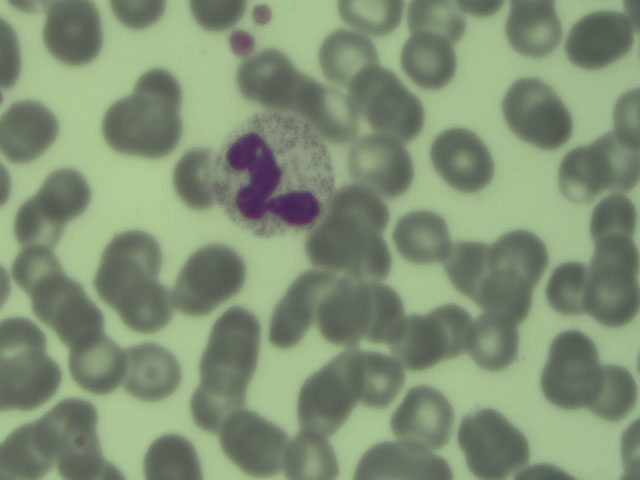Platelets: (223, 29, 261, 60), (250, 2, 276, 27)
RBC: (508, 73, 565, 140), (564, 14, 636, 64), (283, 427, 345, 480), (425, 302, 480, 360), (470, 310, 519, 373), (145, 433, 207, 480), (135, 69, 186, 124), (9, 243, 64, 293), (233, 420, 288, 469), (356, 130, 408, 181), (364, 76, 416, 127), (323, 33, 375, 84), (298, 86, 350, 137), (237, 51, 289, 102), (60, 429, 112, 480), (43, 397, 95, 448), (186, 383, 238, 434), (211, 303, 263, 354), (200, 340, 252, 391), (187, 244, 239, 295), (118, 282, 170, 333), (93, 253, 145, 304), (106, 225, 158, 276), (171, 151, 223, 202), (127, 345, 179, 396), (68, 338, 120, 389), (51, 300, 103, 351), (30, 273, 82, 324), (10, 201, 62, 252), (38, 167, 90, 218), (104, 101, 156, 152), (46, 12, 98, 63), (544, 348, 596, 399), (436, 237, 488, 288), (493, 231, 545, 282), (547, 260, 599, 311), (588, 274, 640, 325), (588, 235, 640, 286), (588, 192, 640, 243), (553, 144, 605, 195), (588, 133, 640, 184), (404, 33, 456, 84), (347, 351, 399, 402), (296, 369, 348, 420), (437, 135, 489, 186), (395, 210, 447, 261), (336, 282, 388, 333), (280, 279, 332, 330), (309, 226, 361, 277), (588, 368, 640, 419), (464, 420, 516, 471), (400, 389, 452, 440), (391, 310, 443, 361), (362, 439, 426, 480), (1, 425, 52, 476), (1, 360, 52, 411), (1, 107, 52, 158), (506, 1, 558, 50), (483, 275, 532, 326), (334, 1, 405, 35), (334, 186, 384, 233), (410, 1, 464, 42), (1, 315, 44, 364), (1, 22, 30, 91), (613, 84, 640, 148), (615, 412, 640, 480)
WBC: (217, 110, 327, 240)
